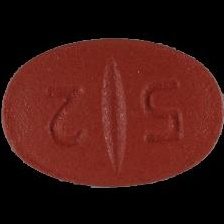65862-617: (0, 0, 224, 224)
